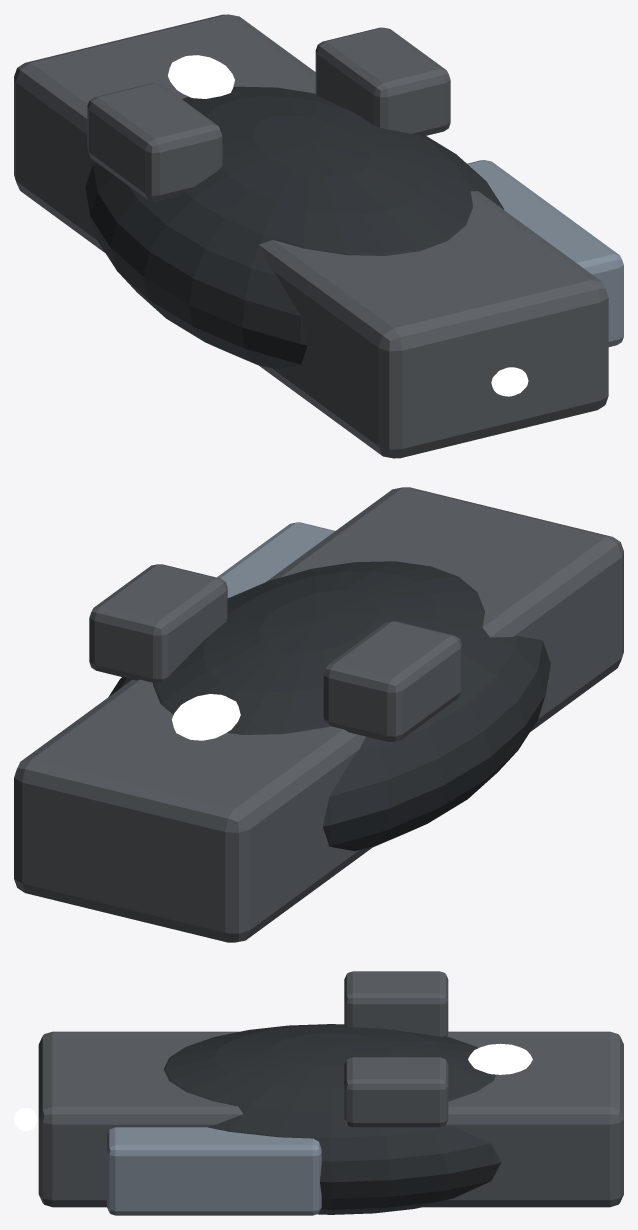
The picture shows the model from 3 angles, top to bottom: view 1: azimuth 30°, elevation 25°; view 2: azimuth 150°, elevation 25°; view 3: azimuth 270°, elevation 25°; orthographic projection. The views are drawn at different scales.
Visible parts, largest first — view 1: RIMWARD_HULL, RIMWARD_EMISSIVE, RIMWARD_ENGINE_GLOW; view 2: RIMWARD_HULL, RIMWARD_EMISSIVE; view 3: RIMWARD_HULL, RIMWARD_EMISSIVE, RIMWARD_ENGINE_GLOW.
Boxes of the visible parts, bbox=[...] form: RIMWARD_HULL: bbox=[14, 14, 623, 458]; RIMWARD_EMISSIVE: bbox=[168, 55, 234, 98]; RIMWARD_ENGINE_GLOW: bbox=[491, 367, 528, 396]; RIMWARD_HULL: bbox=[14, 487, 623, 942]; RIMWARD_EMISSIVE: bbox=[172, 694, 240, 740]; RIMWARD_HULL: bbox=[38, 971, 623, 1215]; RIMWARD_EMISSIVE: bbox=[468, 1043, 532, 1074]; RIMWARD_ENGINE_GLOW: bbox=[14, 1107, 37, 1131].
Bounding box in the file's own units: 7.87 × 4.8 × 15.95.
